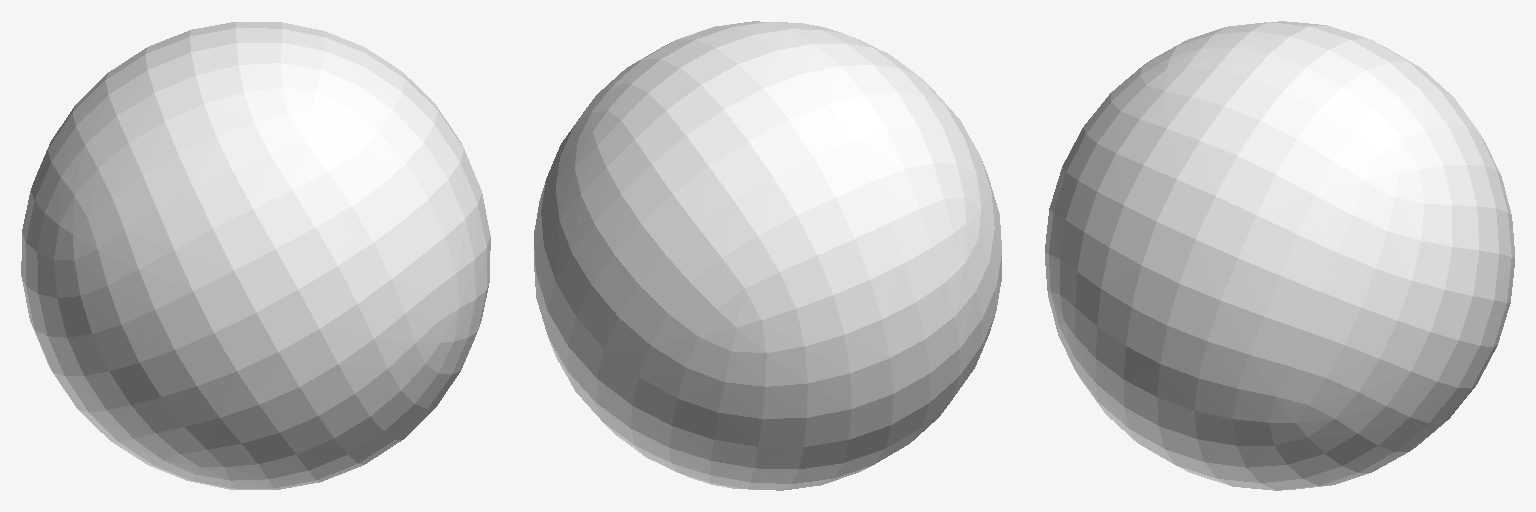
The model's file is Luna.obj.
3 views of the same model, side by side, from view 1: azimuth 30°, elevation 25°; view 2: azimuth 150°, elevation 25°; view 3: azimuth 270°, elevation 25° (orthographic).
Parts seen in each view (by area): view 1: Moon; view 2: Moon; view 3: Moon.
Boxes of the visible parts, x1=… form: Moon: x1=21, y1=22, x2=490, y2=489; Moon: x1=534, y1=21, x2=1001, y2=490; Moon: x1=1045, y1=21, x2=1514, y2=490.
Size of the model in its own units: 3.48 by 3.48 by 3.49.